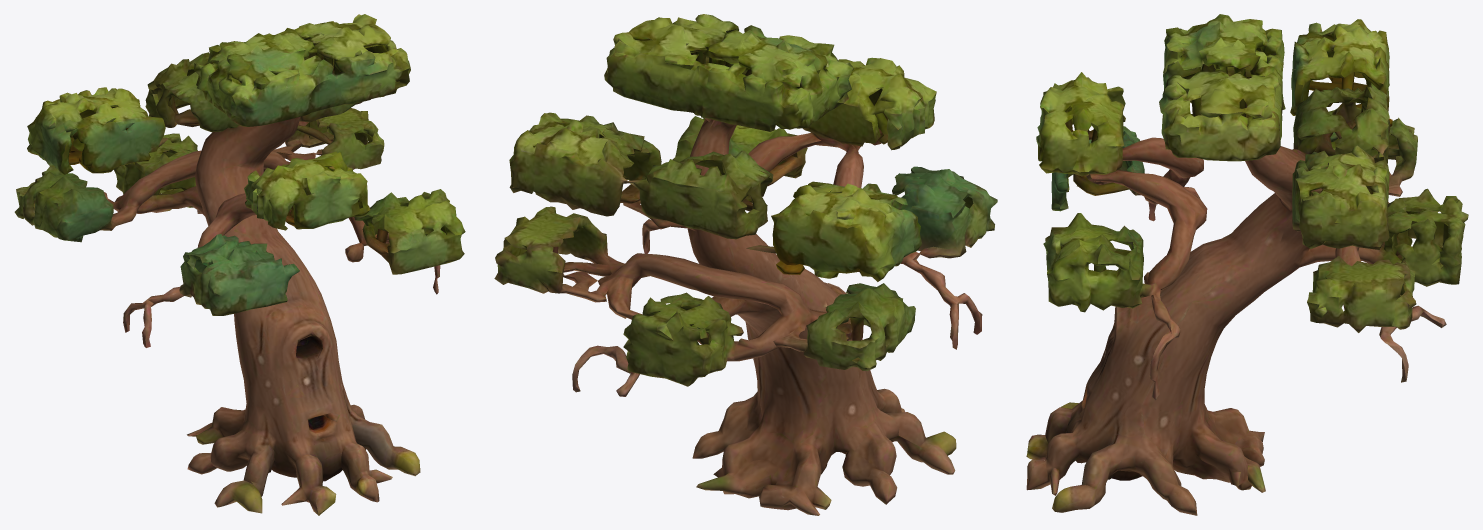
File: oak.glb
3 views of the same model, side by side, from view 1: azimuth 30°, elevation 25°; view 2: azimuth 150°, elevation 25°; view 3: azimuth 270°, elevation 25° (orthographic). The views are drawn at different scales.
Visible parts, largest first — view 1: oak; view 2: oak; view 3: oak.
Part boxes in pixels (x1,y1,x2,y2): oak: (14, 14, 465, 515); oak: (494, 14, 997, 515); oak: (1026, 14, 1468, 515).
Bounding box in the file's own units: 10.44 × 12 × 10.69.
1 material, 1 textured.
